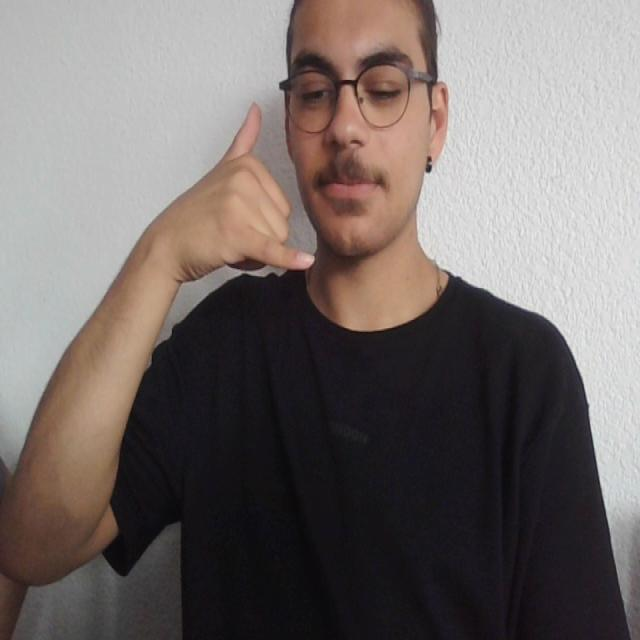Telefon: (200, 89, 314, 296)
